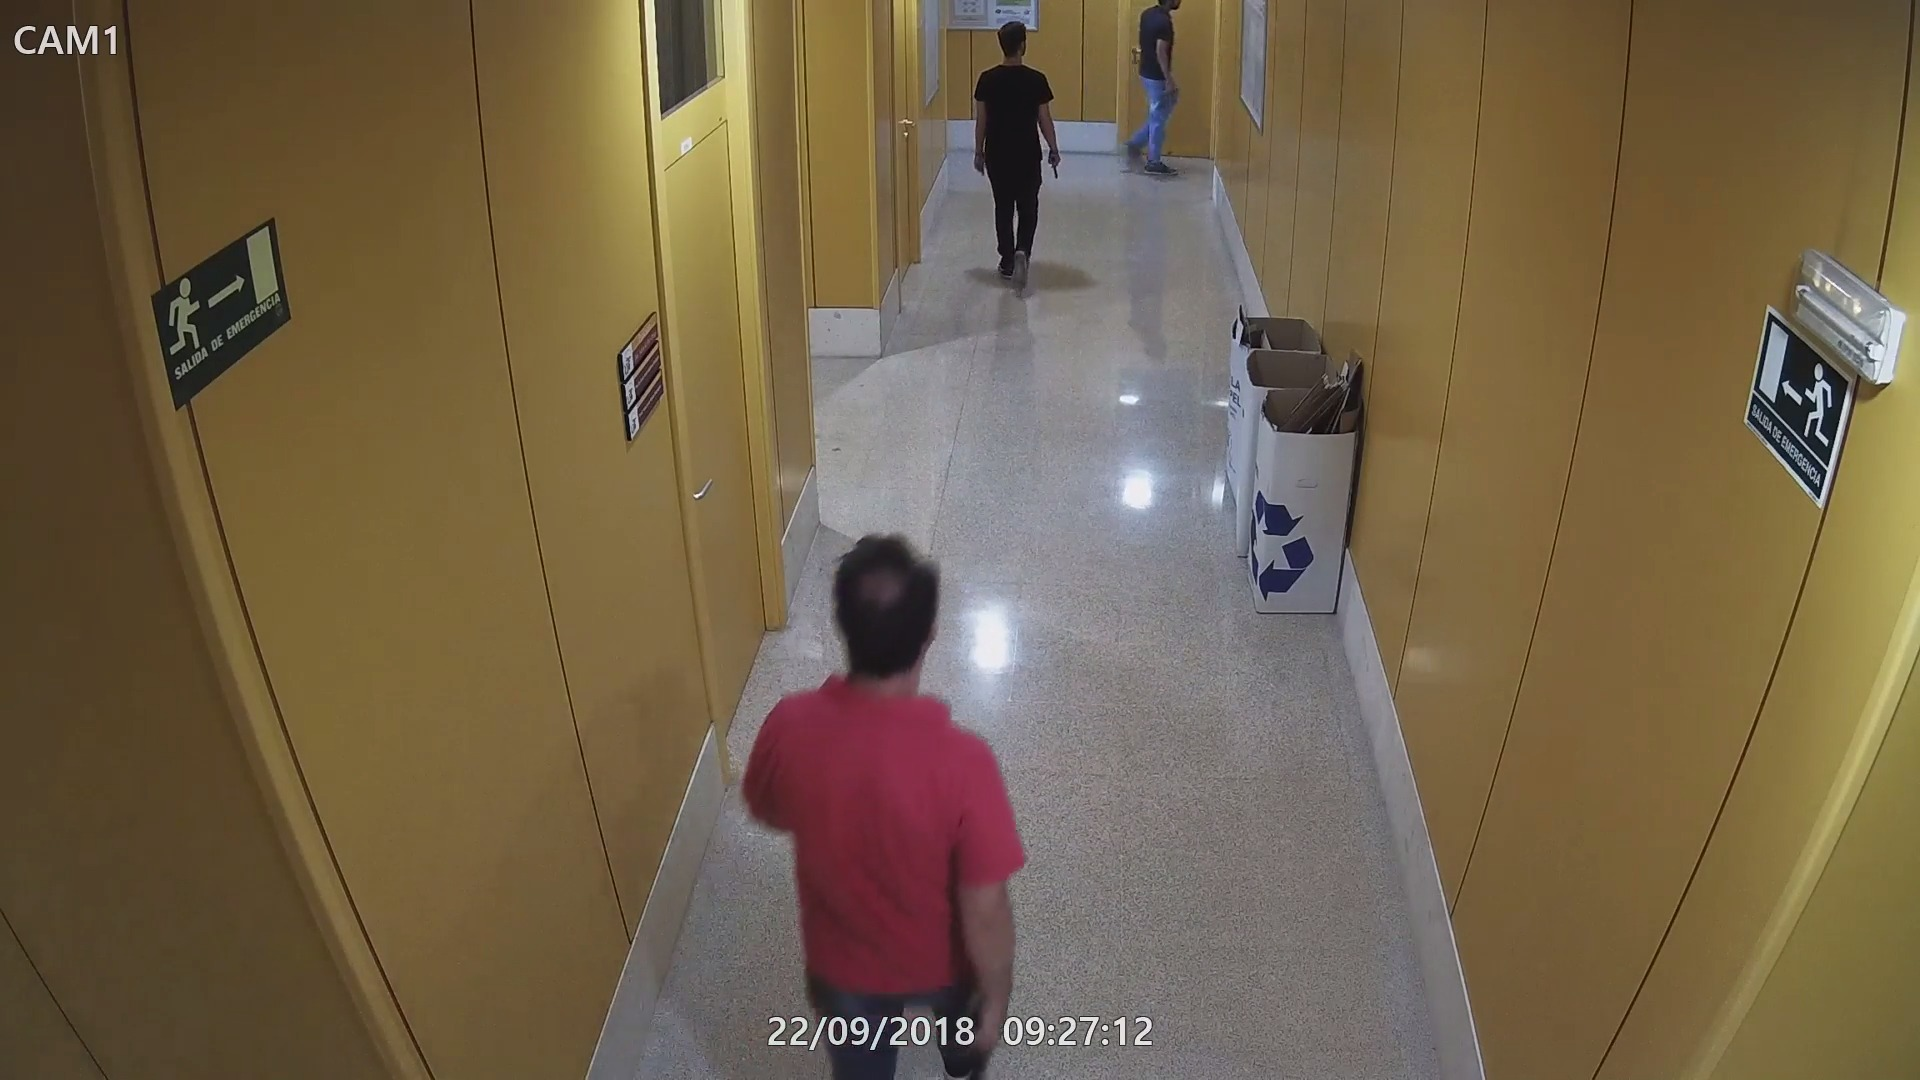Handgun: (957, 1000, 1004, 1079), (1156, 79, 1184, 108), (1040, 149, 1067, 179)
